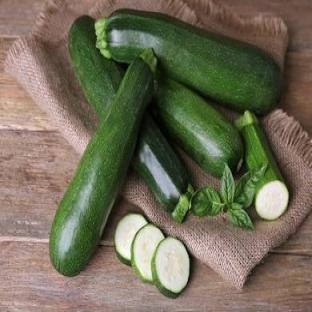Zucchini: (50, 50, 156, 275), (96, 10, 281, 112), (152, 77, 243, 176), (132, 113, 192, 221), (236, 111, 288, 219), (68, 16, 122, 119), (152, 237, 189, 297), (132, 224, 164, 283), (114, 213, 147, 265)
